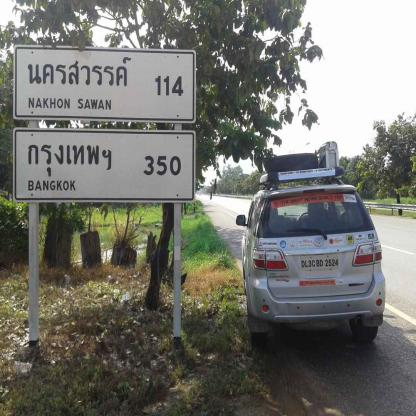car: (236, 168, 384, 345)
